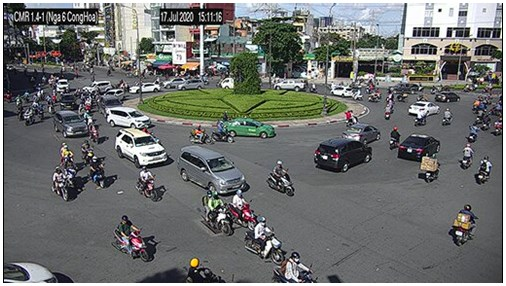xe_hoi: (114, 128, 168, 166), (314, 137, 372, 172), (222, 118, 275, 139), (106, 106, 152, 129), (343, 123, 381, 145), (55, 111, 85, 137), (408, 101, 440, 117), (273, 78, 304, 93), (129, 82, 161, 93), (164, 76, 189, 90), (83, 80, 111, 92), (177, 79, 205, 90), (436, 91, 458, 103), (331, 85, 353, 97), (61, 93, 76, 110), (56, 79, 69, 92)
xe_may: (245, 217, 284, 265), (114, 215, 150, 263), (274, 251, 320, 284), (201, 190, 232, 238), (228, 189, 257, 231), (188, 257, 227, 283), (267, 160, 295, 196), (453, 204, 476, 247), (137, 165, 159, 201), (52, 165, 70, 202), (89, 155, 106, 188), (421, 154, 441, 182), (212, 121, 234, 144), (476, 156, 493, 185), (190, 125, 211, 145), (80, 139, 94, 165), (465, 122, 479, 143), (462, 143, 473, 169), (344, 109, 359, 127), (23, 106, 37, 125), (61, 140, 72, 164), (86, 121, 98, 143), (389, 126, 400, 150), (414, 109, 427, 126), (442, 108, 453, 126), (368, 89, 380, 102), (37, 104, 45, 122), (86, 110, 94, 128), (352, 89, 363, 100), (385, 91, 394, 103), (384, 104, 391, 119)
